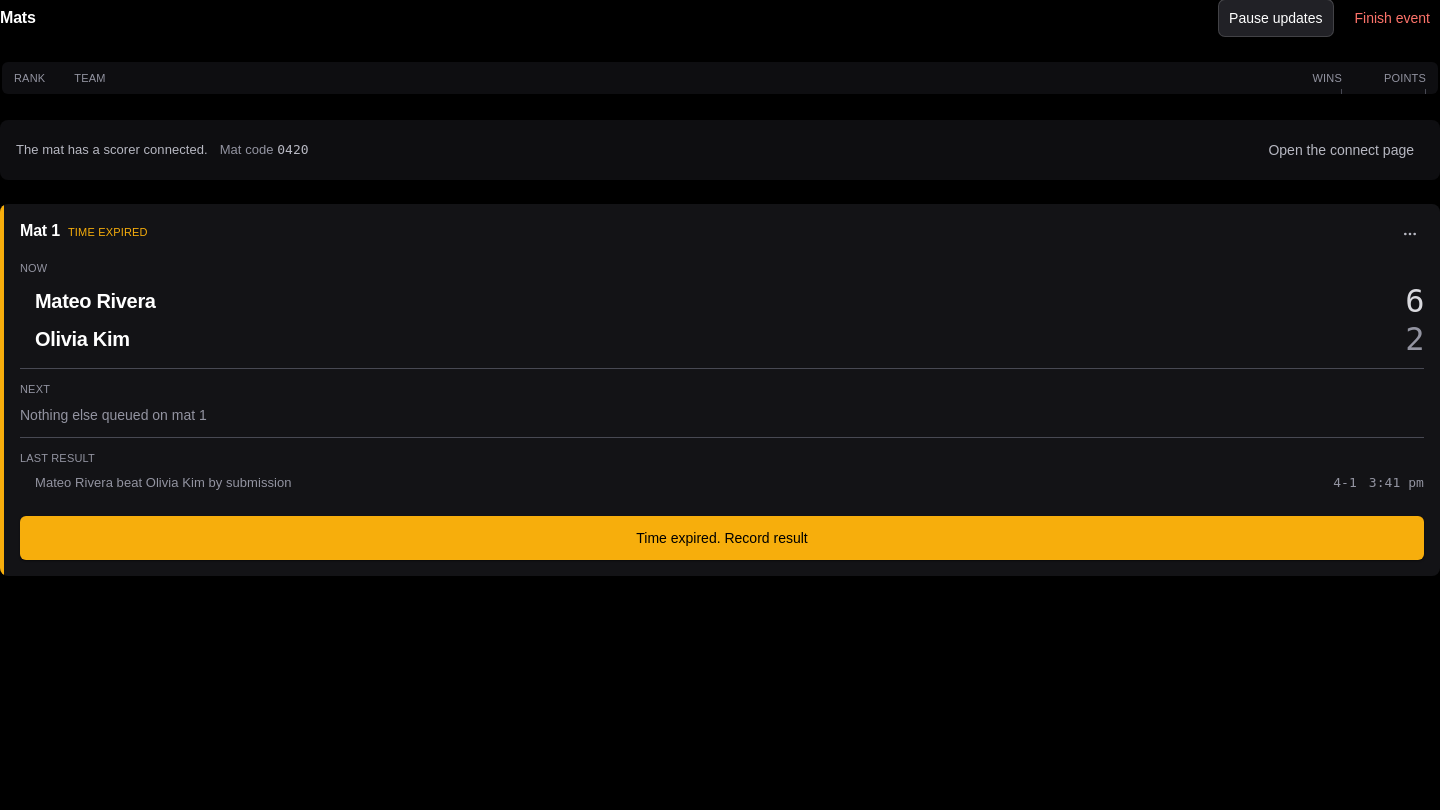
Scenario: LiveTab › names the mats still on a match in the shared finish dialog
This screenshot has width=1440, height=810.
Click the button "Finish event".
click(1392, 18)  # box [1344,0,1439,36]
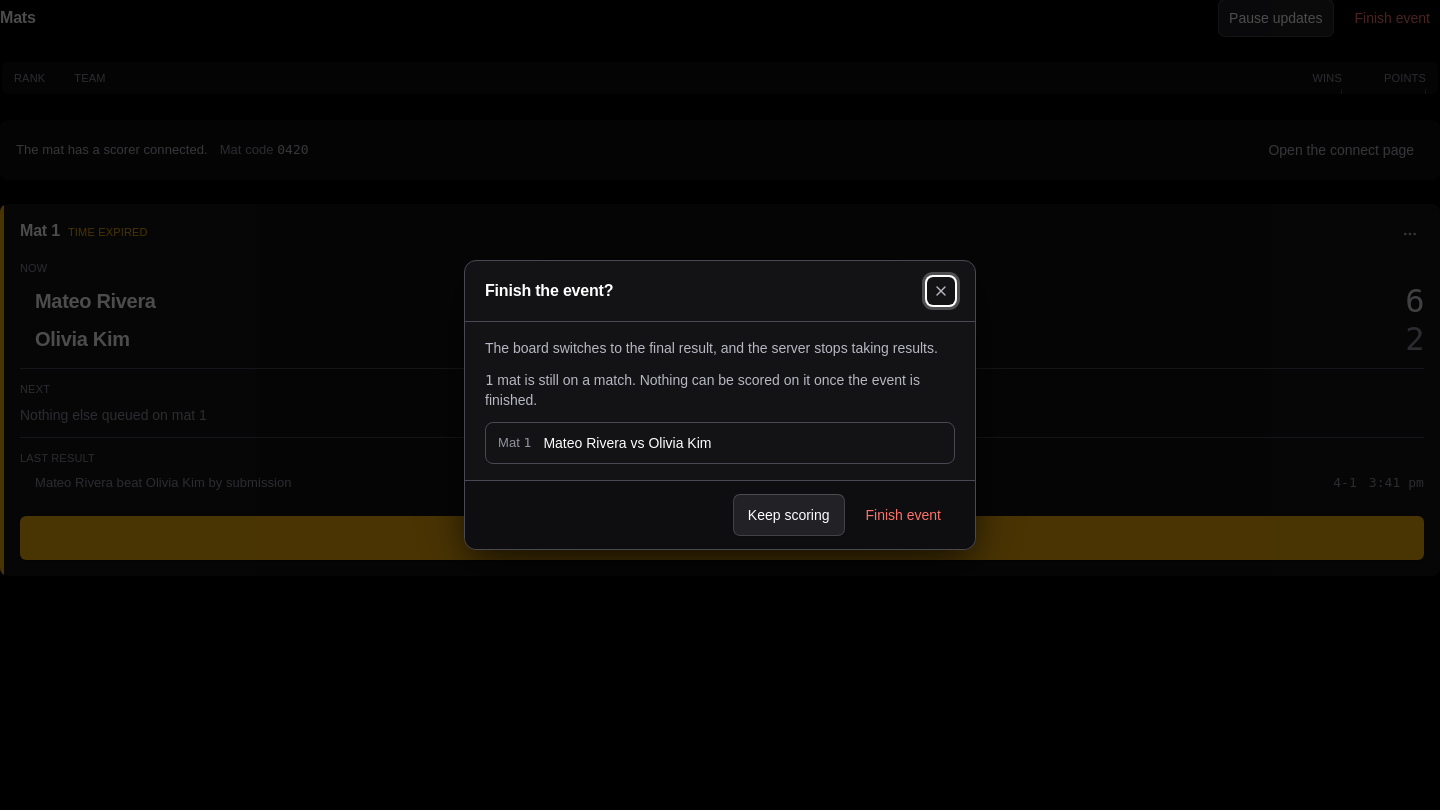
Result: the heading "Finish the event?" is shown at [485,280,613,302]
Result: the text "mat is still on a match" is shown at [485,370,955,410]
Result: the dialog shows "1 mat is still on a match." at [464,260,976,550]
